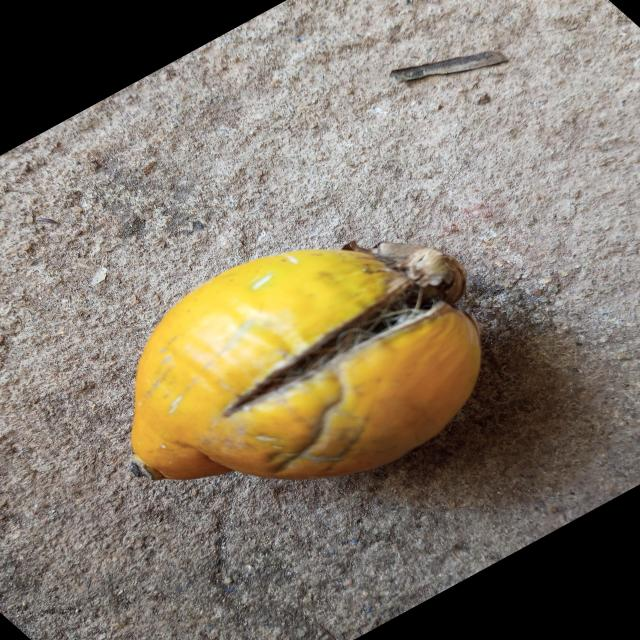damaged: (131, 246, 482, 482)
